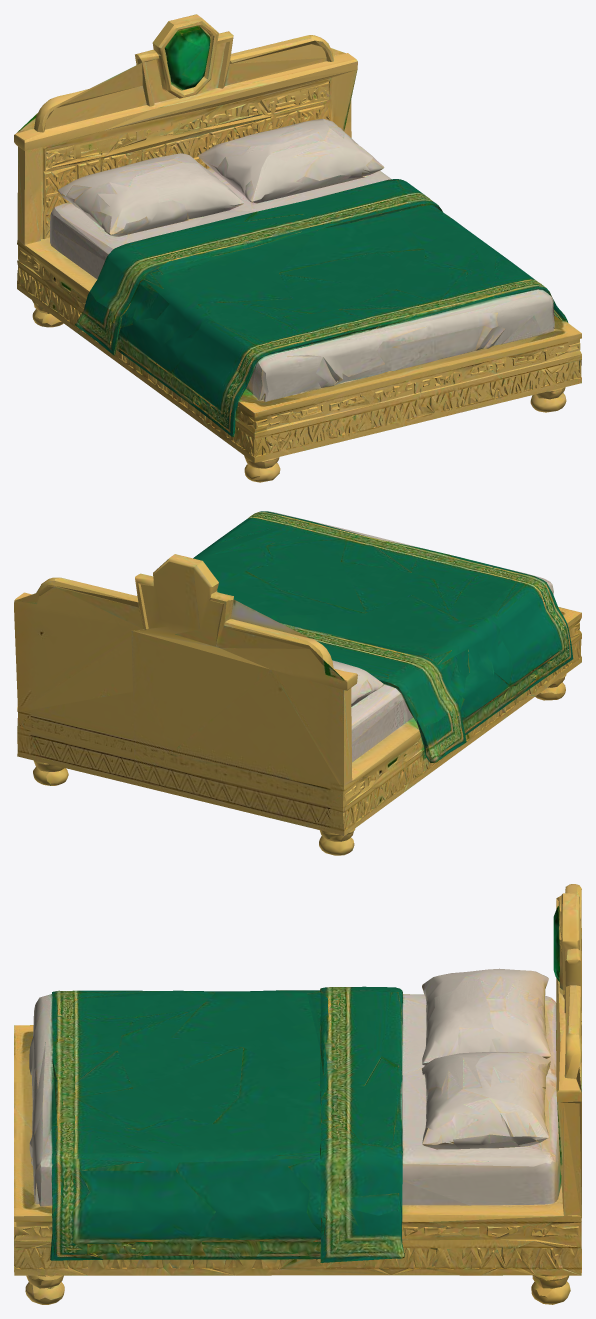
Rendered from et_bed.glb.
The picture shows the model from 3 angles, top to bottom: view 1: azimuth 30°, elevation 25°; view 2: azimuth 150°, elevation 25°; view 3: azimuth 270°, elevation 25°; orthographic projection. The views are drawn at different scales.
Size of the model in its own units: 1.67 by 1.16 by 1.9.
Materials: 1 (1 with a texture image).
